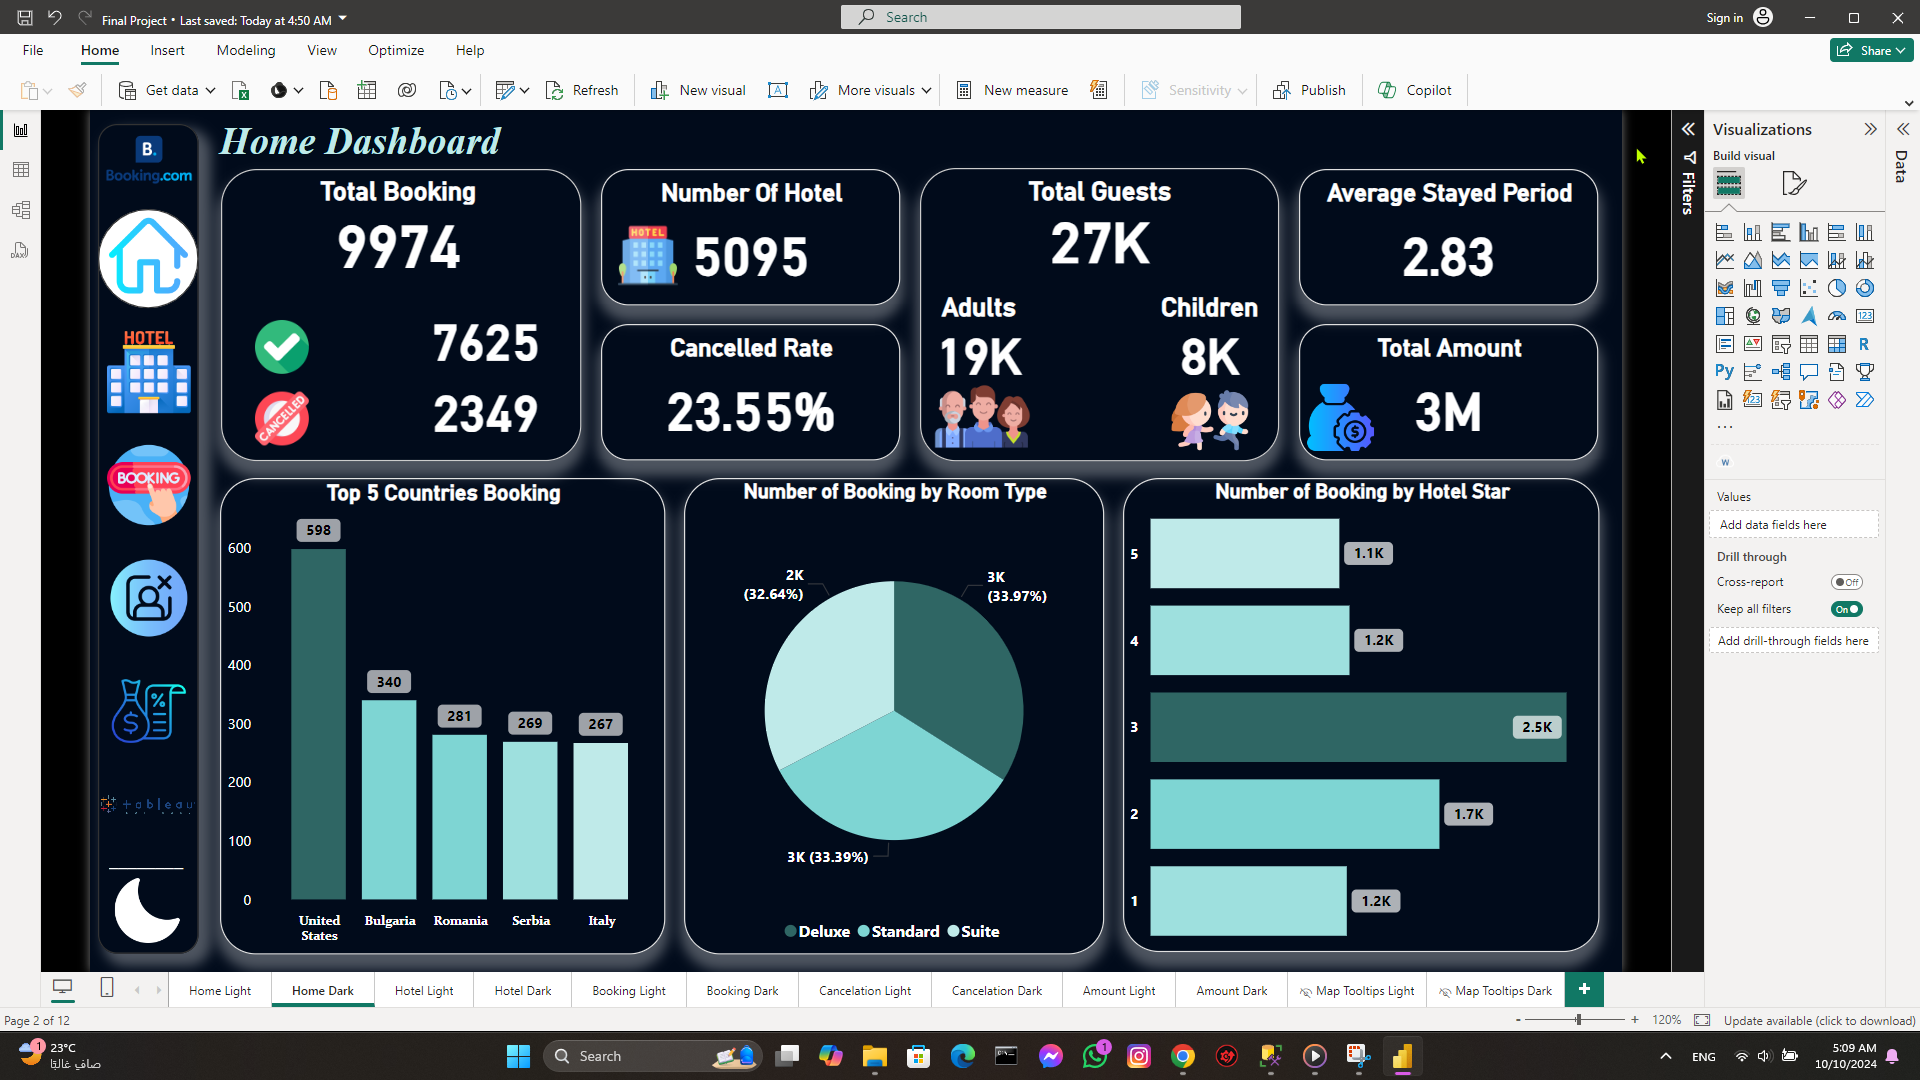

What the dashboard file says about the page in this screenshot:
{"tool":"tableau","page":{"name":"Overview Dashboard","canvas":[1450,830],"ordinal":3},"visuals":[{"type":"image","param":"Image/OverView.jpg","box":[8,8,1434,814]},{"type":"image","param":"Image/choose.png","box":[87,29,47,39]},{"type":"text","box":[474,34,273,34]},{"type":"text","box":[62,72,100,30]},{"type":"worksheet","title":"Top 5 nationality( Guest) (3)","mark":"Pie","box":[848,89,564,364]},{"type":"image","param":"Image/hotel.png","box":[490,104,41,40]},{"type":"image","param":"Image/revenue.png","box":[684,104,43,41]},{"type":"image","param":"Image/booking.png","box":[299,105,38,43]},{"type":"worksheet","title":"Total Amount over Bookings (Booking) (2)","mark":"Automatic","box":[625,113,167,94]},{"type":"worksheet","title":"No. Hotels (Hotel) (2)","mark":"Automatic","box":[445,123,135,69]},{"type":"worksheet","title":"No. Booking (Booking) (2)","mark":"Automatic","box":[253,129,132,63]},{"type":"dashboard-object","box":[27,137,174,52]},{"type":"image","param":"Image/children.png","box":[681,211,52,49]},{"type":"worksheet","title":"Total Children(Booking) (2)","mark":"Automatic","box":[634,212,143,118]},{"type":"image","param":"Image/couple.png","box":[485,213,54,51]},{"type":"image","param":"Image/guests.png","box":[297,214,48,49]},{"type":"dashboard-object","box":[27,215,174,47]},{"type":"worksheet","title":"No. Guests (Guest) (2)","mark":"Automatic","box":[251,231,140,85]},{"type":"worksheet","title":"Total Audlts (Booking) (2)","mark":"Automatic","box":[432,234,162,79]},{"type":"dashboard-object","box":[27,291,174,47]},{"type":"image","param":"Image/schedule.png","box":[382,343,46,47]},{"type":"image","param":"Image/rating.png","box":[606,346,44,43]},{"type":"worksheet","title":"sum of total night (Booking) (2)","mark":"Automatic","box":[336,363,140,69]},{"type":"dashboard-object","box":[27,366,174,47]},{"type":"worksheet","title":"No. Reviews (Review) (2)","mark":"Automatic","box":[535,366,188,71]},{"type":"dashboard-object","box":[27,448,174,47]},{"type":"worksheet","title":"No. Booking By Reservation Source ","mark":"Pie","rows":["Calculation_673288202718617603","Calculation_673288202718617603"],"box":[858,459,548,351]},{"type":"worksheet","title":"Top Hotel Booked By Guests ","mark":"Automatic","rows":["hotel_name"],"cols":["Guest_id_BK"],"box":[246,463,537,336]},{"type":"blank","box":[51,521,123,2]},{"type":"text","box":[76,527,92,34]},{"type":"dashboard-object","box":[69,579,76,39]},{"type":"dashboard-object","box":[117,580,91,39]},{"type":"blank","box":[51,637,123,2]},{"type":"text","box":[47,645,144,25]},{"type":"image","param":"Image/Microsoft-Power-BI-Symbol.png","box":[74,685,77,62]}]}

Visuals, with their boxes on the page's 1450x830 design canvas (x1, y1, x2, y2). These are canvas units, not pixel positions in the 1920x1080 screenshot, which may show the page scaled, cropped or inside an application window:
image: <box>8,8,1442,822</box>
image: <box>87,29,134,68</box>
text: <box>474,34,747,68</box>
text: <box>62,72,162,102</box>
"Top 5 nationality( Guest) (3)" worksheet (Pie marks): <box>848,89,1412,453</box>
image: <box>490,104,531,144</box>
image: <box>684,104,727,145</box>
image: <box>299,105,337,148</box>
"Total Amount over Bookings (Booking) (2)" worksheet: <box>625,113,792,207</box>
"No. Hotels (Hotel) (2)" worksheet: <box>445,123,580,192</box>
"No. Booking (Booking) (2)" worksheet: <box>253,129,385,192</box>
dashboard-object: <box>27,137,201,189</box>
image: <box>681,211,733,260</box>
"Total Children(Booking) (2)" worksheet: <box>634,212,777,330</box>
image: <box>485,213,539,264</box>
image: <box>297,214,345,263</box>
dashboard-object: <box>27,215,201,262</box>
"No. Guests (Guest) (2)" worksheet: <box>251,231,391,316</box>
"Total Audlts (Booking) (2)" worksheet: <box>432,234,594,313</box>
dashboard-object: <box>27,291,201,338</box>
image: <box>382,343,428,390</box>
image: <box>606,346,650,389</box>
"sum of total night (Booking) (2)" worksheet: <box>336,363,476,432</box>
dashboard-object: <box>27,366,201,413</box>
"No. Reviews (Review) (2)" worksheet: <box>535,366,723,437</box>
dashboard-object: <box>27,448,201,495</box>
"No. Booking By Reservation Source " worksheet (Pie marks): <box>858,459,1406,810</box>
"Top Hotel Booked By Guests " worksheet: <box>246,463,783,799</box>
blank: <box>51,521,174,523</box>
text: <box>76,527,168,561</box>
dashboard-object: <box>69,579,145,618</box>
dashboard-object: <box>117,580,208,619</box>
blank: <box>51,637,174,639</box>
text: <box>47,645,191,670</box>
image: <box>74,685,151,747</box>
